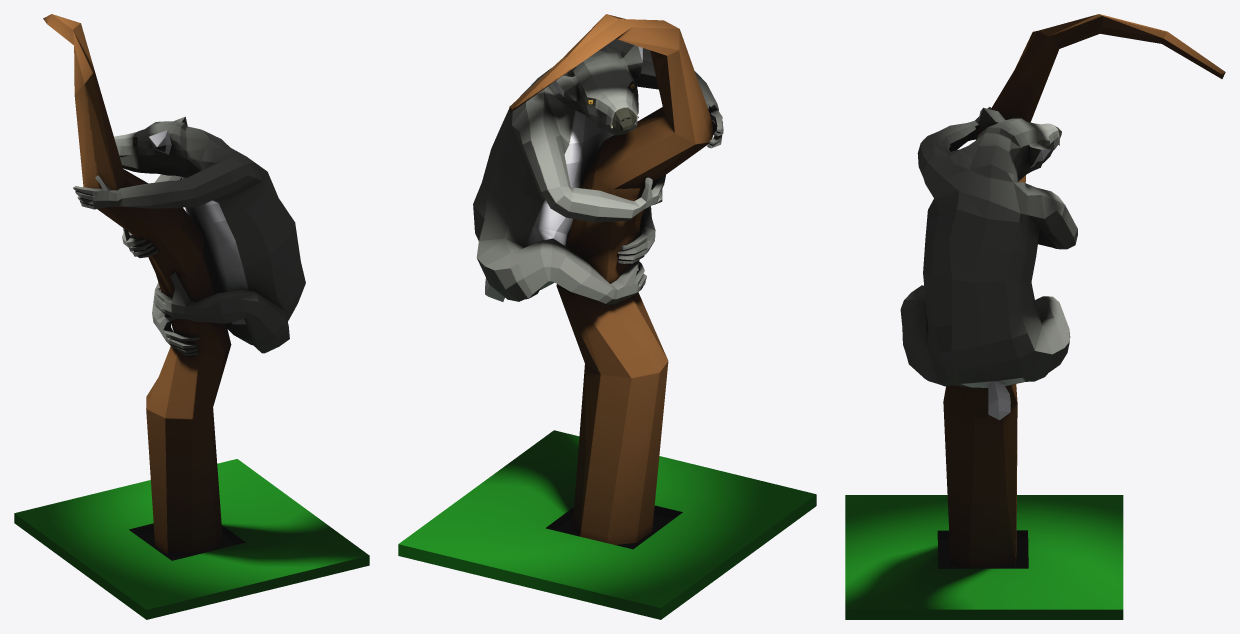
File: megaladapis.glb
The picture shows the model from 3 angles, left to right: view 1: azimuth 30°, elevation 25°; view 2: azimuth 150°, elevation 25°; view 3: azimuth 270°, elevation 25°; orthographic projection. The views are drawn at different scales.
Visible parts, largest first — view 1: Megaladapis.001; view 2: Megaladapis.001; view 3: Megaladapis.001.
Part boxes in pixels (x1,y1,x2,y2): Megaladapis.001: (14,14,369,619); Megaladapis.001: (398,14,816,619); Megaladapis.001: (845,14,1225,619).
Size of the model in its own units: 1.17 by 2.49 by 1.65.
Materials: 1 (1 with a texture image).
